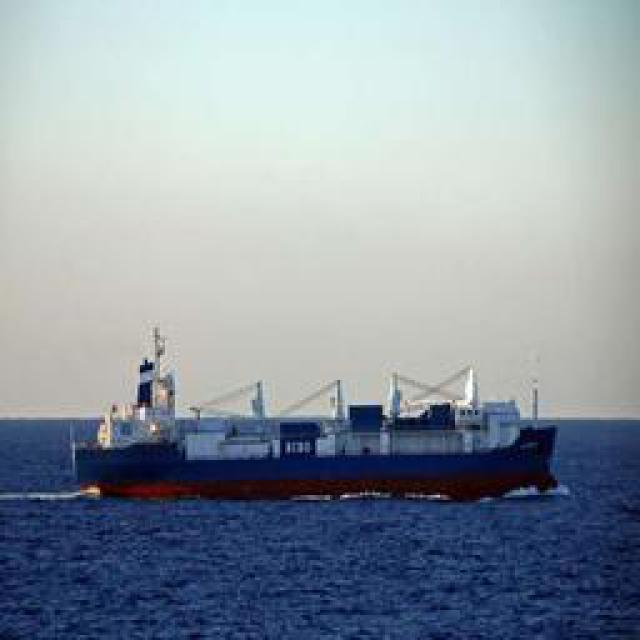Ship: (73, 364, 558, 497)
